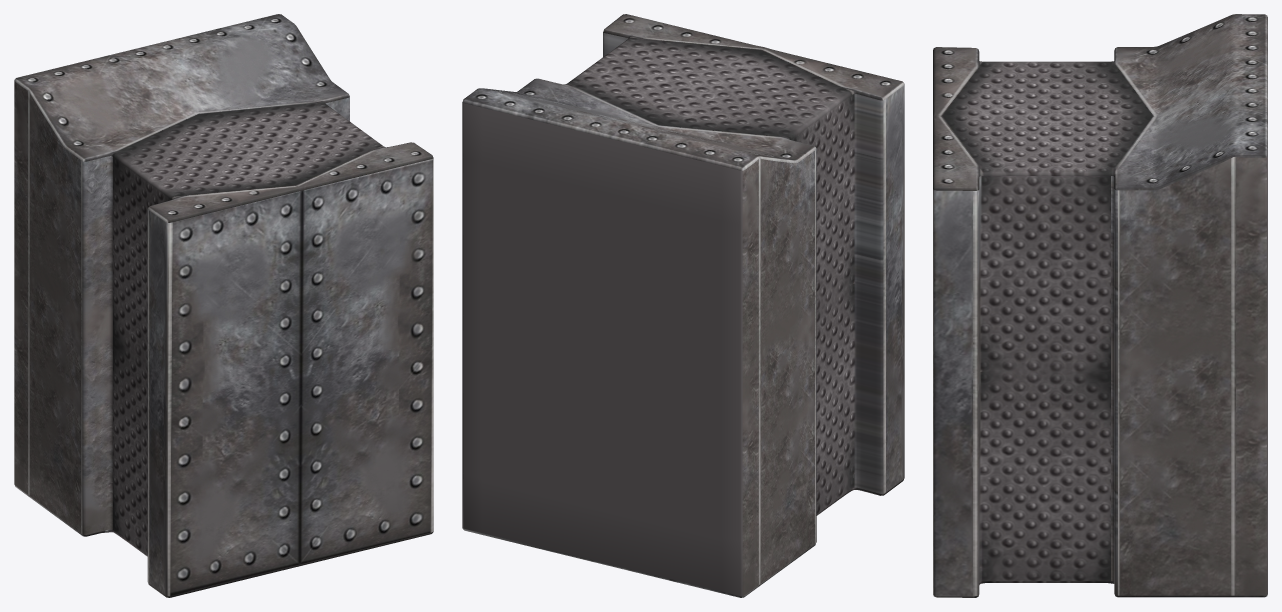
File: Pedestal.fbx
3 views of the same model, side by side, from view 1: azimuth 30°, elevation 25°; view 2: azimuth 150°, elevation 25°; view 3: azimuth 270°, elevation 25° (orthographic). The views are drawn at different scales.
Parts seen in each view (by area): view 1: Pedestal; view 2: Pedestal; view 3: Pedestal.
Part boxes in pixels (x1,y1,x2,y2): Pedestal: [14, 14, 433, 597]; Pedestal: [462, 14, 904, 597]; Pedestal: [933, 14, 1267, 597].
Bounding box in the file's own units: 500 × 732 × 500.
